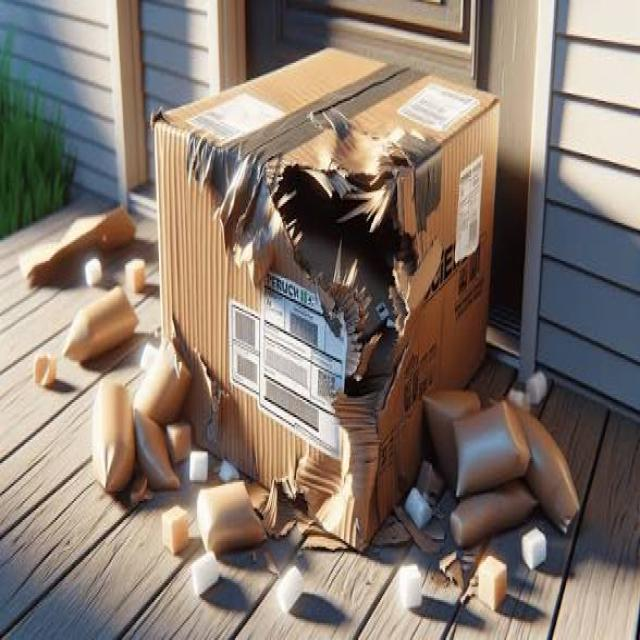package_damage: (217, 128, 442, 461)
